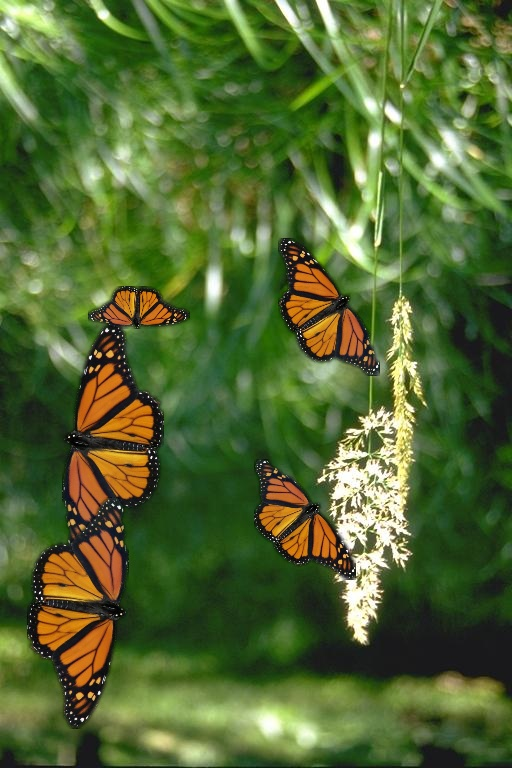danaus_plexippus: (62, 326, 164, 560), (27, 497, 129, 729), (278, 238, 380, 376), (254, 459, 356, 580), (88, 286, 190, 329)
